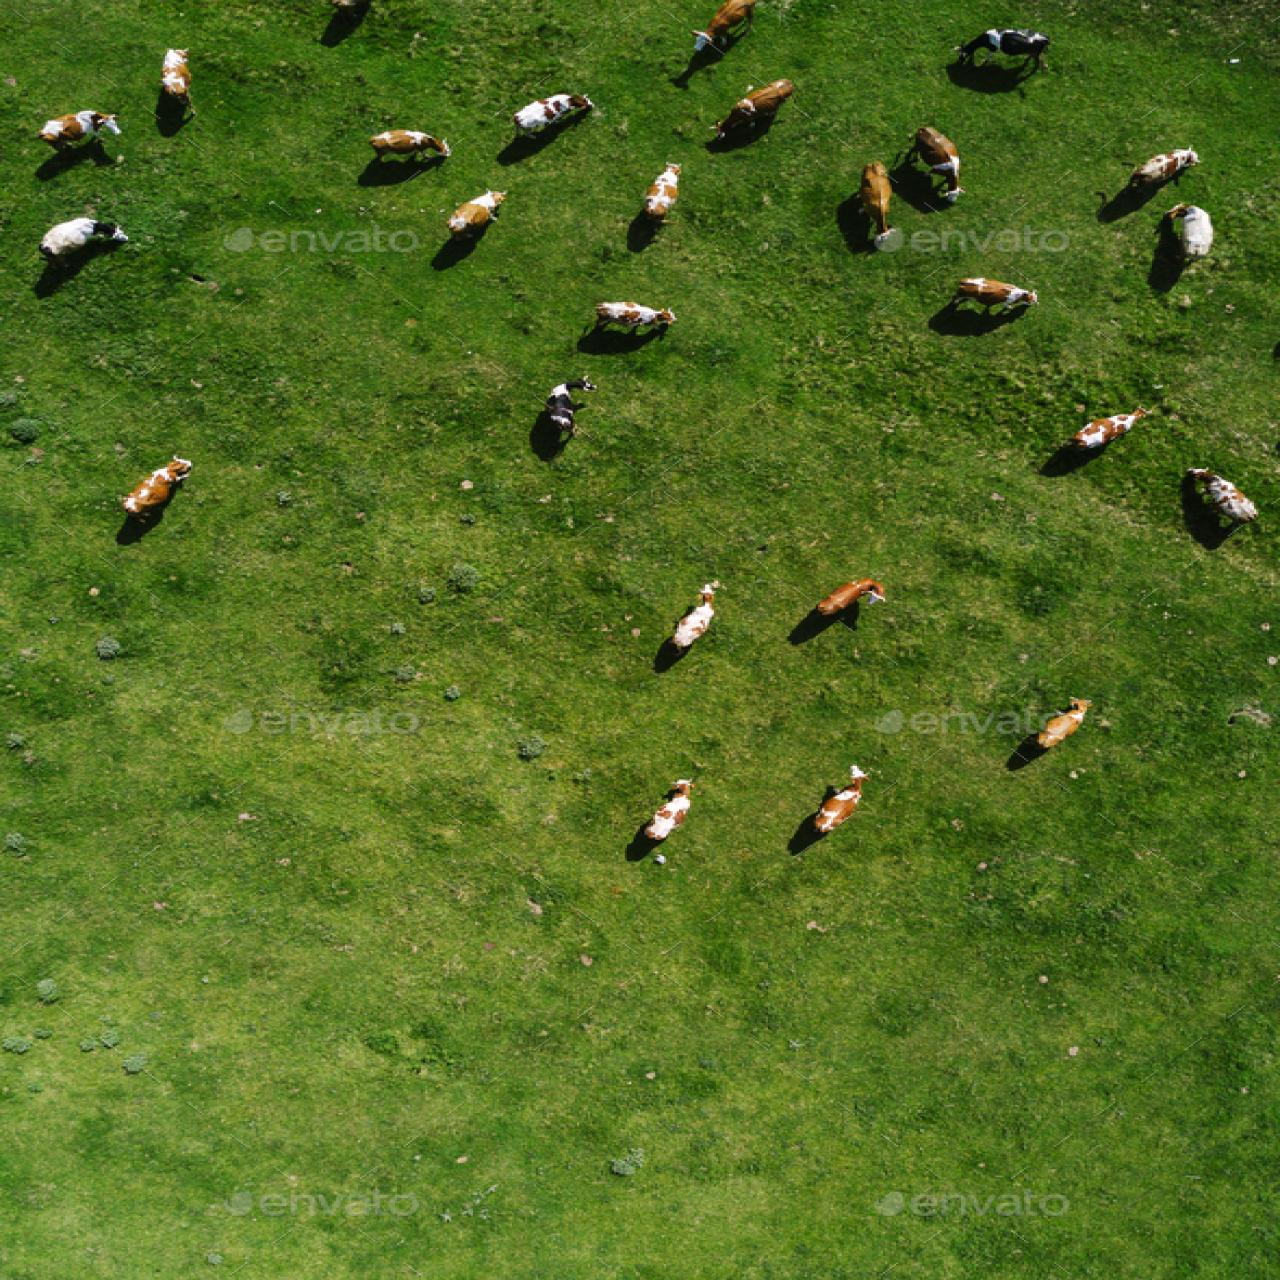cow: (928, 11, 1061, 95), (642, 0, 781, 80), (805, 549, 903, 640), (649, 566, 738, 663), (117, 445, 206, 542), (634, 772, 722, 866), (127, 30, 215, 123), (1177, 459, 1274, 543), (25, 100, 125, 177), (792, 760, 887, 840), (1039, 400, 1159, 463), (933, 265, 1051, 326), (29, 210, 145, 272), (435, 176, 527, 252), (703, 70, 792, 149), (831, 154, 908, 243), (1013, 680, 1105, 754), (523, 374, 605, 457), (586, 291, 688, 348), (1116, 144, 1208, 206), (347, 124, 451, 176), (908, 118, 979, 191), (1153, 203, 1231, 267), (515, 87, 601, 144), (633, 157, 690, 234)
